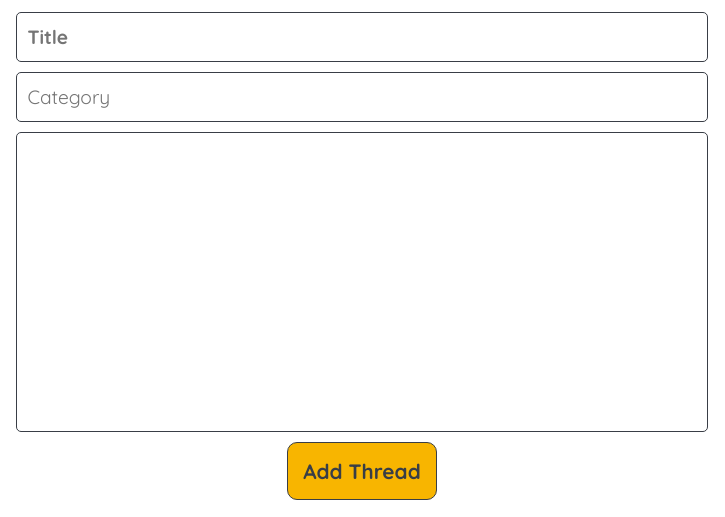
Test case: ThreadInput component › should handle body typing correctly
Click the text box with id "body".
click(362, 282)  # box [16,132,708,432]
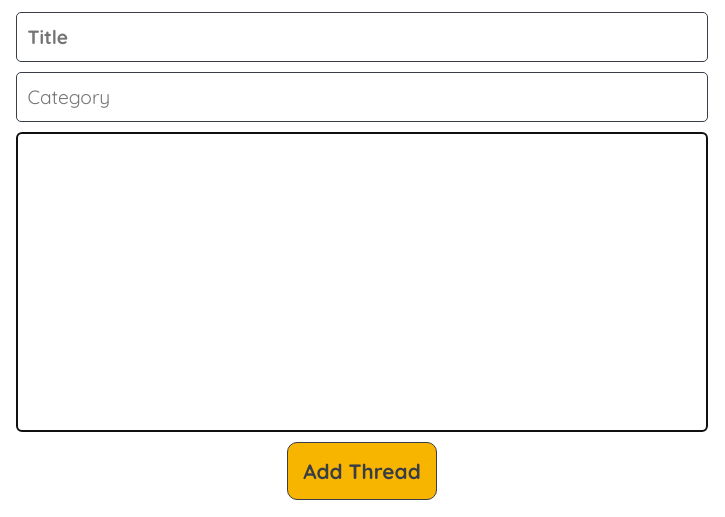
Type keys "testing testing testing"
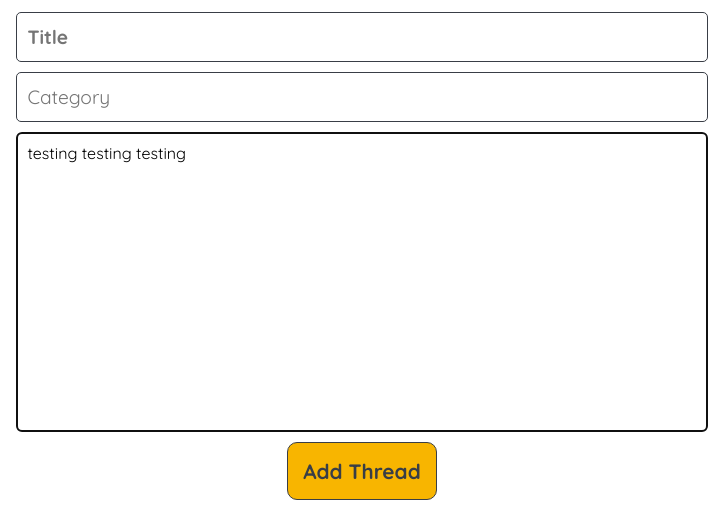
Check: the text box with id "body" reads "testing testing testing", box [16,132,708,432]
